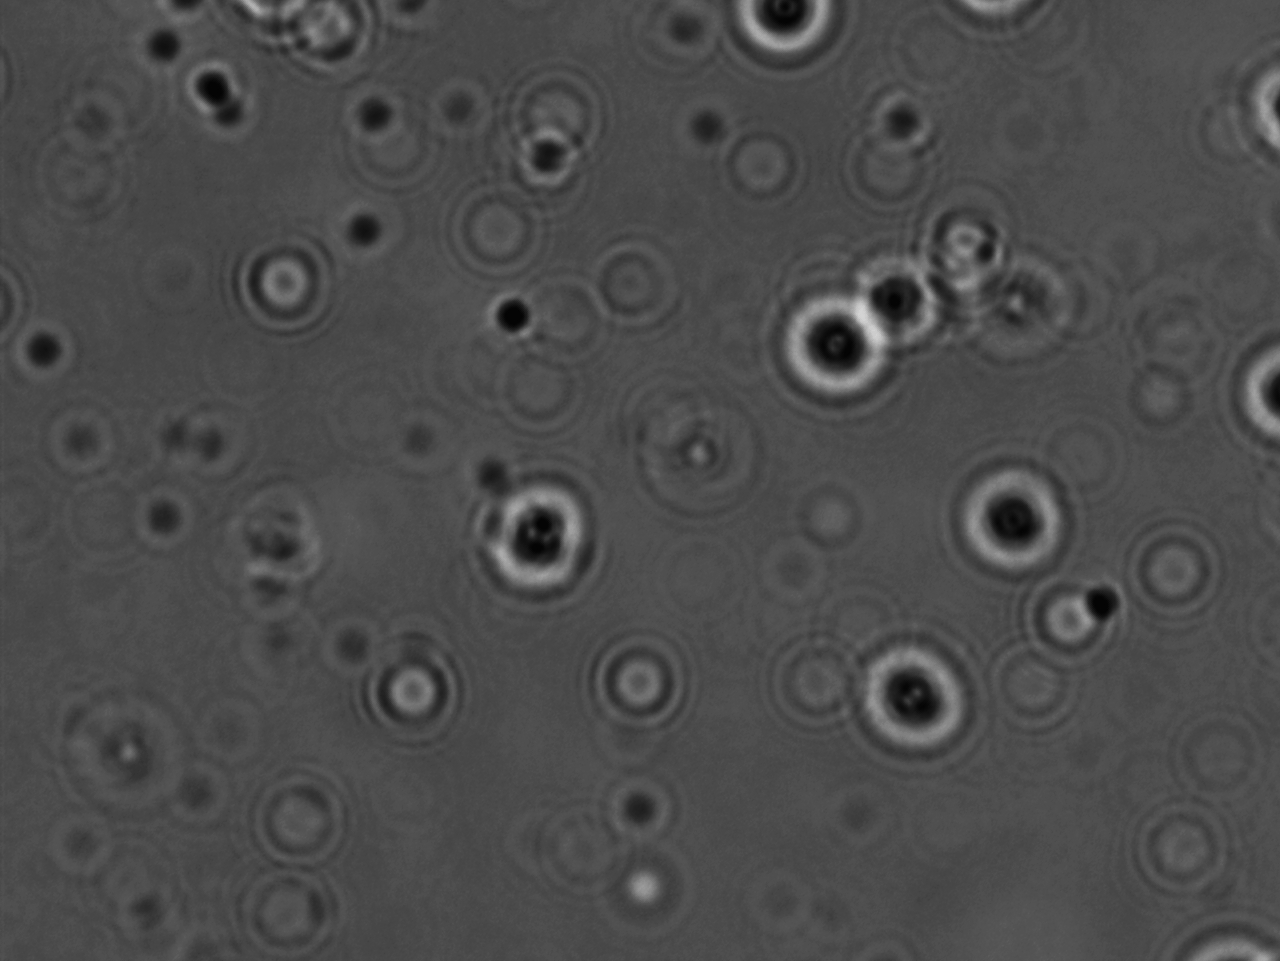depth:-16: (837, 622, 977, 769), (469, 471, 611, 613), (945, 446, 1083, 588), (765, 276, 893, 413), (840, 238, 957, 356)
